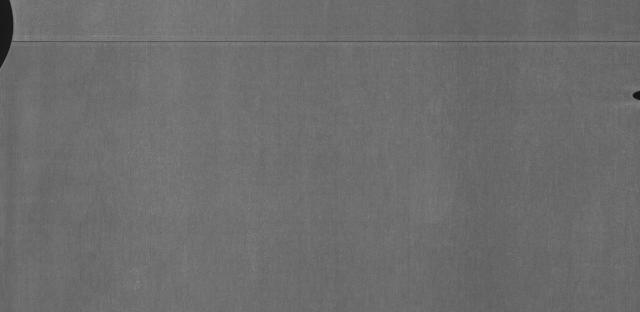punching_hole: (629, 87, 640, 104)
welding_line: (3, 34, 640, 53)
